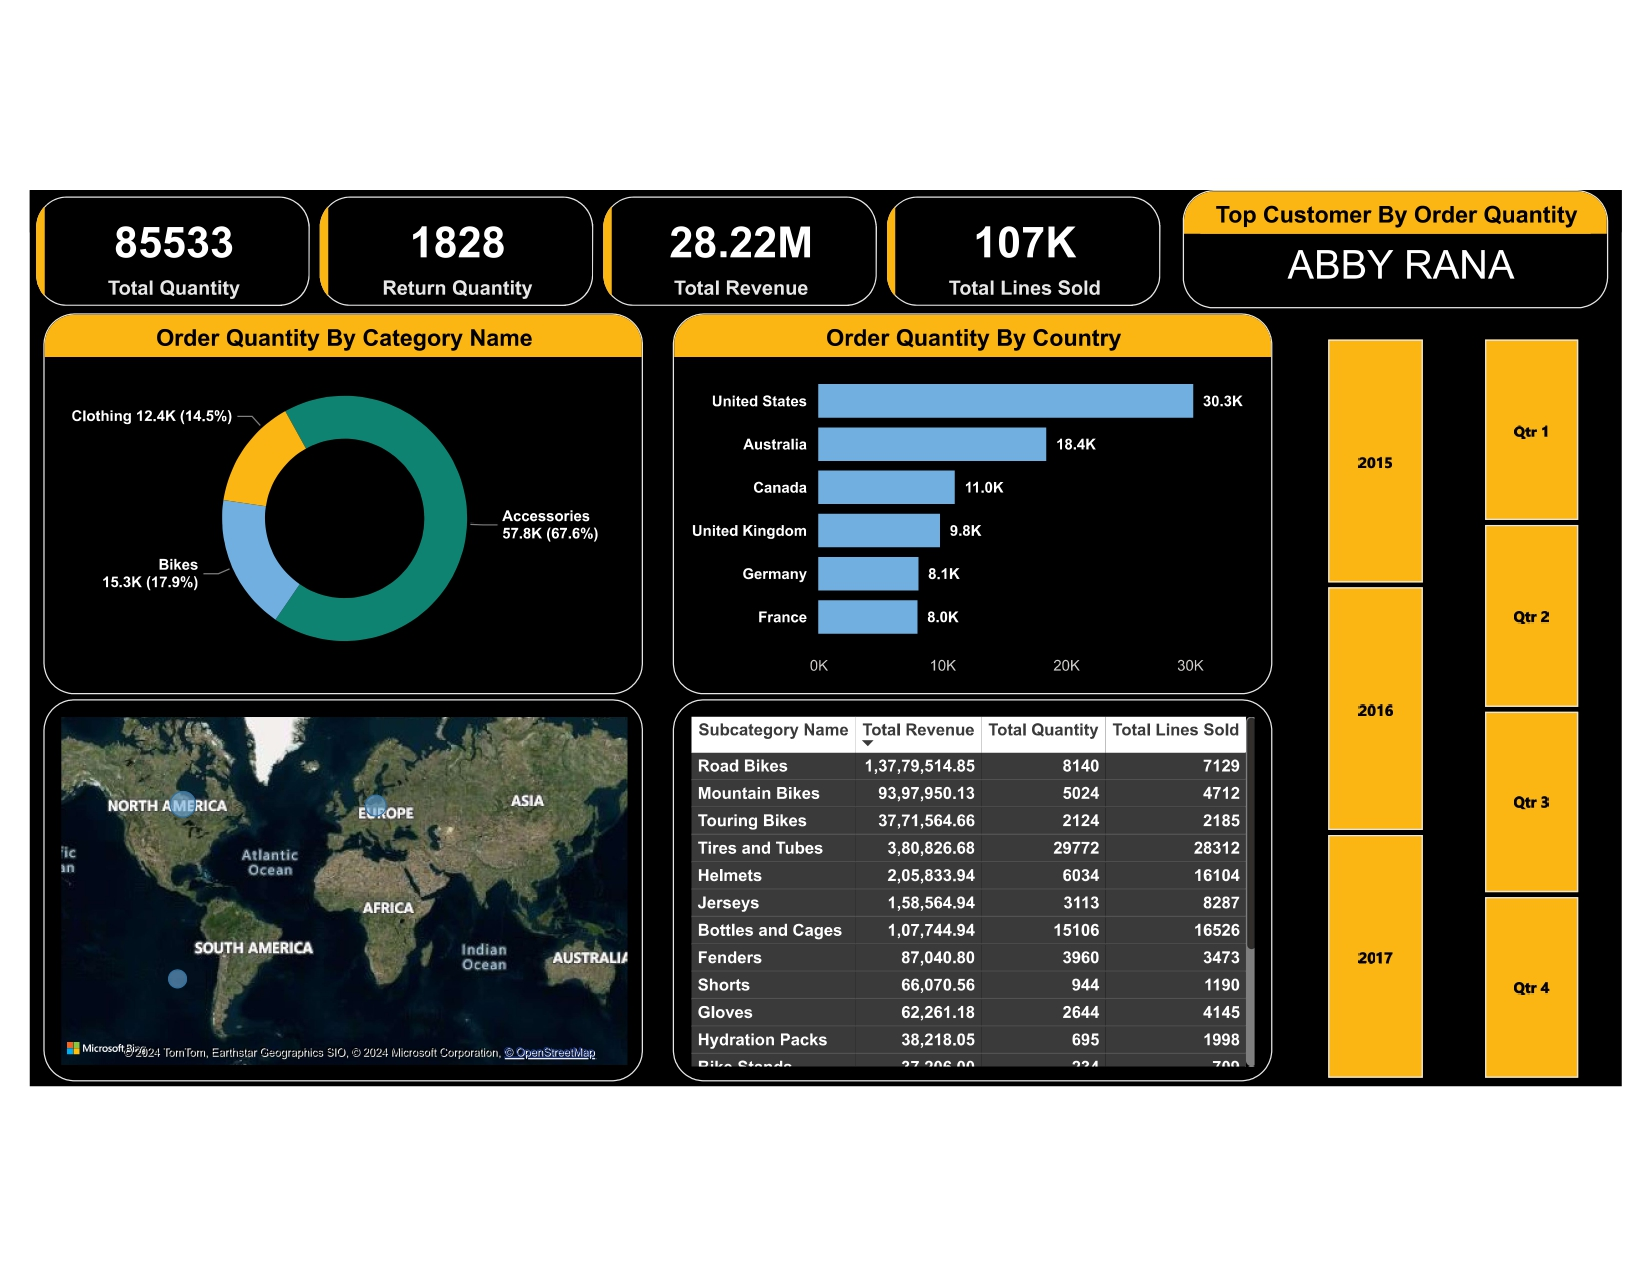

The page's visual inventory and layout, read from the dashboard file:
{"tool":"powerbi","page":{"name":"Product Level Analysis","canvas":[1280,720],"ordinal":1},"visuals":[{"type":"cardVisual","fields":{"Data":["AW_Sales.Total_Quantity","Sum(AW_Returns.ReturnQuantity)","Sum(AW_Sales.TotalRevenue)","AW_Sales.Total Lines Sold"]},"box":[0,0,916,98.6],"z":0},{"type":"slicer","fields":{"Values":["AW_Calender.OrderDate.Variation.Date Hierarchy.Quarter"]},"box":[1143.5,98.6,125.9,621.8],"z":1000},{"type":"map","title":"Total Revenue By Region","fields":{"Category":["AW_Territories.Continent"],"Size":["AW_Sales.Total_Quantity"]},"box":[10.6,409.5,482.3,306.4],"z":2000},{"type":"card","title":"Top Customer By Order Quantity","fields":{"Values":["Min(AW_Customers.Full_Name)"]},"box":[926.6,0,342.7,95],"z":3000},{"type":"pieChart","title":"Order Quantity By Category Name","fields":{"Y":["AW_Sales.Total_Quantity"],"Category":["AW_Product_Categories.CategoryName"]},"box":[10.6,98.6,482.3,306.4],"z":4000},{"type":"clusteredBarChart","title":"Order Quantity By Country","fields":{"Category":["AW_Territories.Country"],"Y":["AW_Sales.Total_Quantity"]},"box":[517.2,98.6,482.3,306.4],"z":5000},{"type":"tableEx","title":"Order Quantity By Country","fields":{"Values":["AW_Product_Subcategories.SubcategoryName","Sum(AW_Sales.TotalRevenue)","AW_Sales.Total_Quantity","AW_Sales.Total Lines Sold"]},"box":[517.2,409.5,482.3,306.4],"z":6000},{"type":"slicer","fields":{"Values":["AW_Calender.OrderDate.Variation.Date Hierarchy.Year"]},"box":[1017.6,98.6,125.9,621.8],"z":7000}]}

Visuals, with their boxes on the page's 1280x720 design canvas (x1, y1, x2, y2). These are canvas units, not pixel positions in the 1650x1275 screenshot, which may show the page scaled, cropped or inside an application window:
cardVisual - AW_Sales.Total_Quantity x Sum(AW_Returns.ReturnQuantity): (x1=0, y1=0, x2=916, y2=99)
slicer - AW_Calender.OrderDate.Variation.Date Hierarchy.Quarter: (x1=1144, y1=99, x2=1269, y2=720)
"Total Revenue By Region" map: (x1=11, y1=410, x2=493, y2=716)
"Top Customer By Order Quantity" card: (x1=927, y1=0, x2=1269, y2=95)
"Order Quantity By Category Name" pieChart: (x1=11, y1=99, x2=493, y2=405)
"Order Quantity By Country" clusteredBarChart: (x1=517, y1=99, x2=1000, y2=405)
"Order Quantity By Country" tableEx: (x1=517, y1=410, x2=1000, y2=716)
slicer - AW_Calender.OrderDate.Variation.Date Hierarchy.Year: (x1=1018, y1=99, x2=1144, y2=720)
